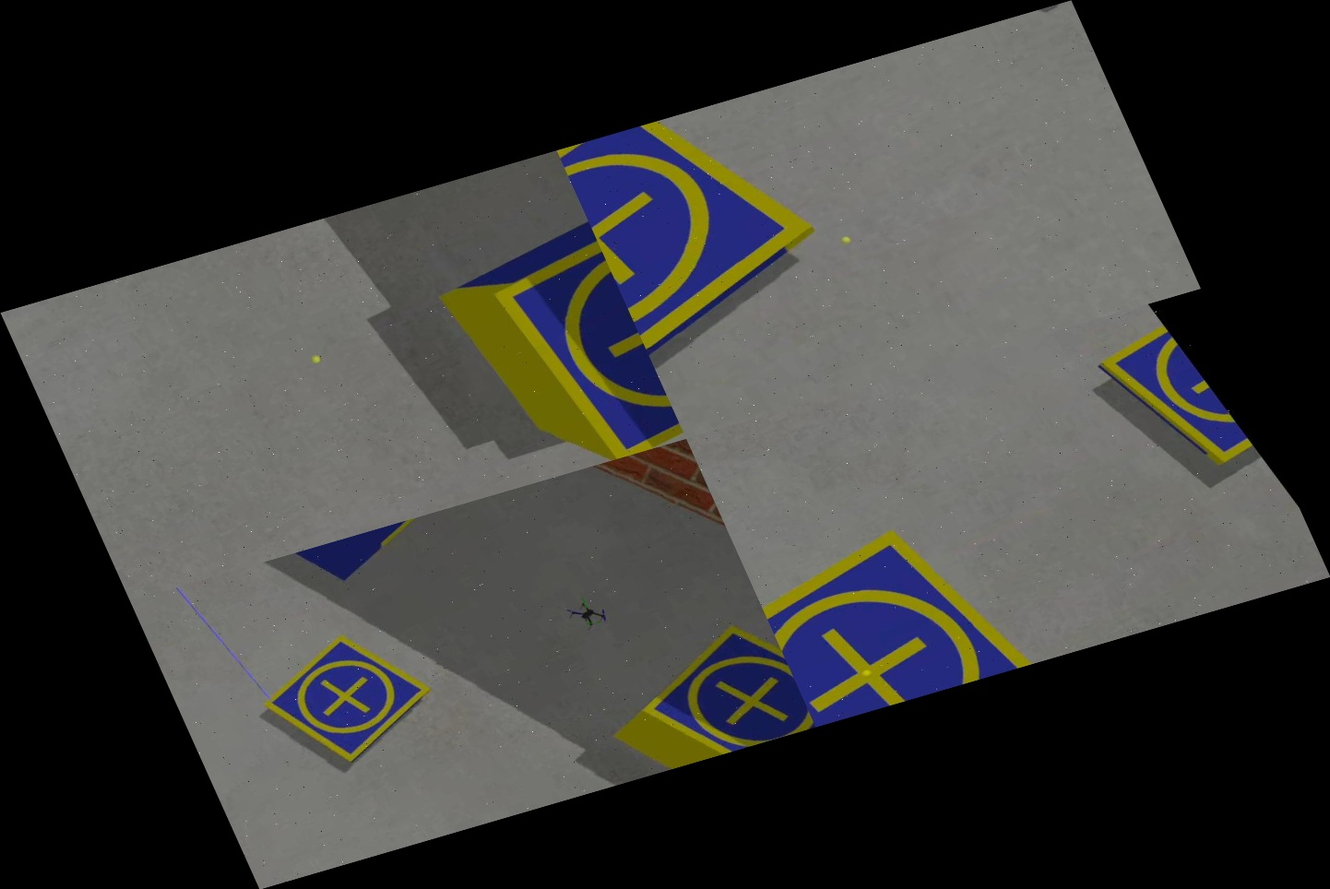large_base: (251, 485, 548, 611)
small_base: (557, 88, 884, 403), (744, 497, 1058, 726), (473, 220, 686, 472), (235, 611, 460, 787), (610, 607, 815, 771), (1085, 313, 1264, 496)
